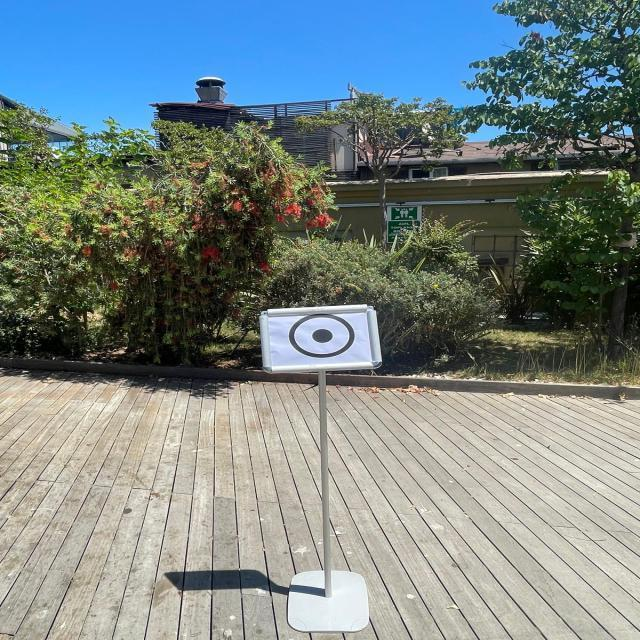Target: (250, 300, 395, 381)
inner: (310, 328, 335, 346)
